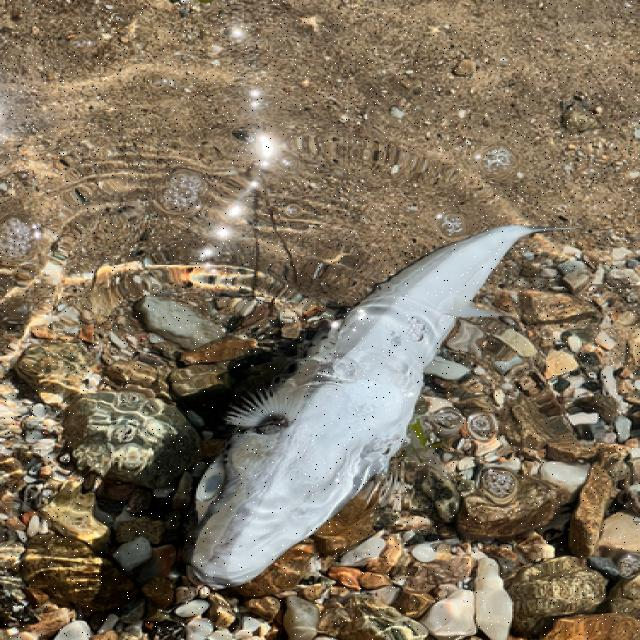Balik: (188, 226, 549, 587)
